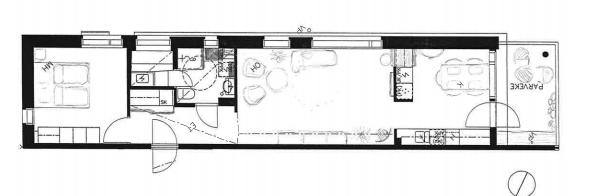bathroom: (176, 50, 234, 104)
door: (148, 143, 180, 176), (101, 115, 134, 145), (463, 100, 496, 130), (489, 100, 521, 130), (150, 118, 178, 150), (194, 102, 219, 129)
perimeter: (21, 33, 498, 151)
window: (307, 33, 386, 52), (132, 31, 175, 53), (78, 31, 125, 50), (258, 32, 294, 52), (487, 46, 499, 103), (19, 102, 36, 127), (200, 34, 221, 49)
